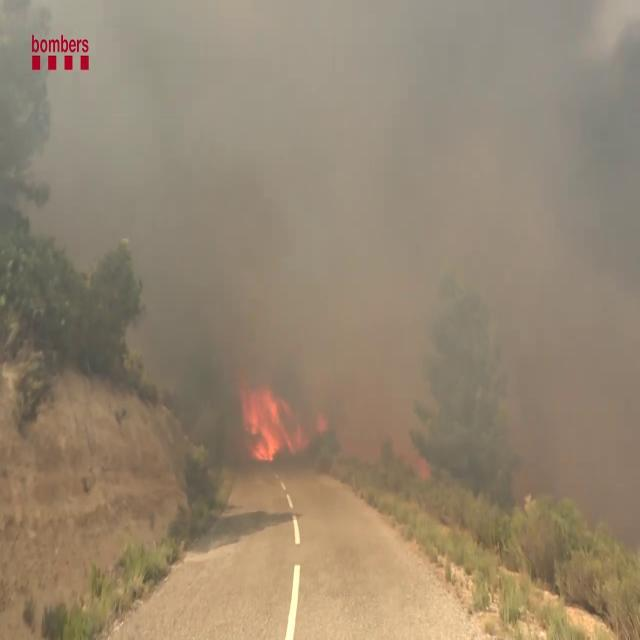Fire: (238, 377, 307, 466)
Smoke: (26, 0, 640, 559)
